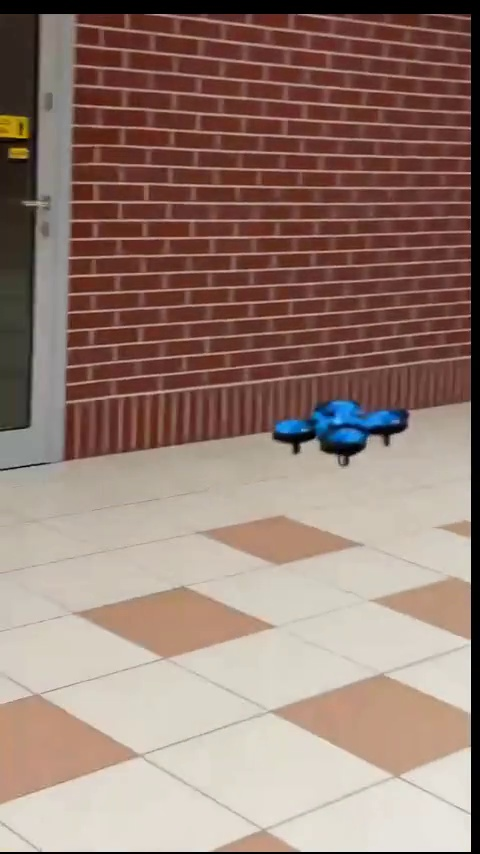drone: (272, 400, 408, 462)
